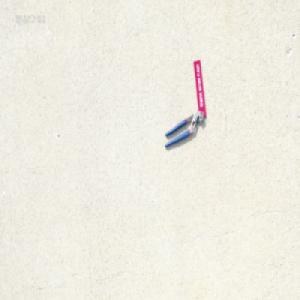Label: (193, 57, 206, 117)
Pliers: (163, 109, 204, 149)
